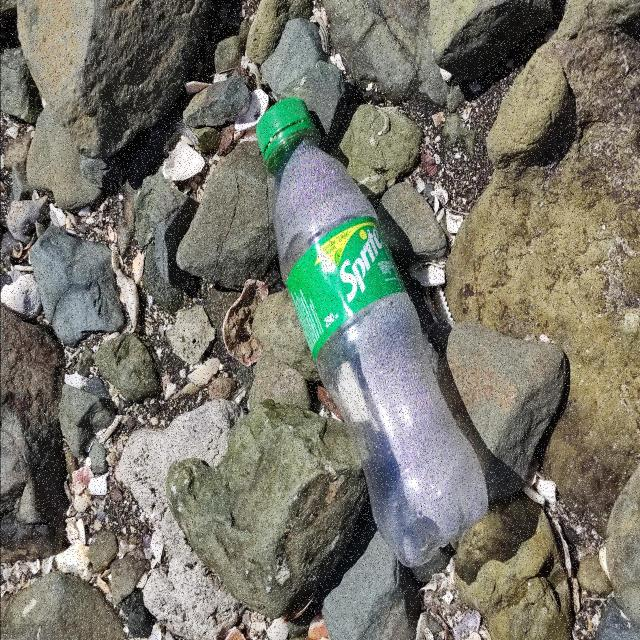plastic_waste: (253, 96, 493, 571)
